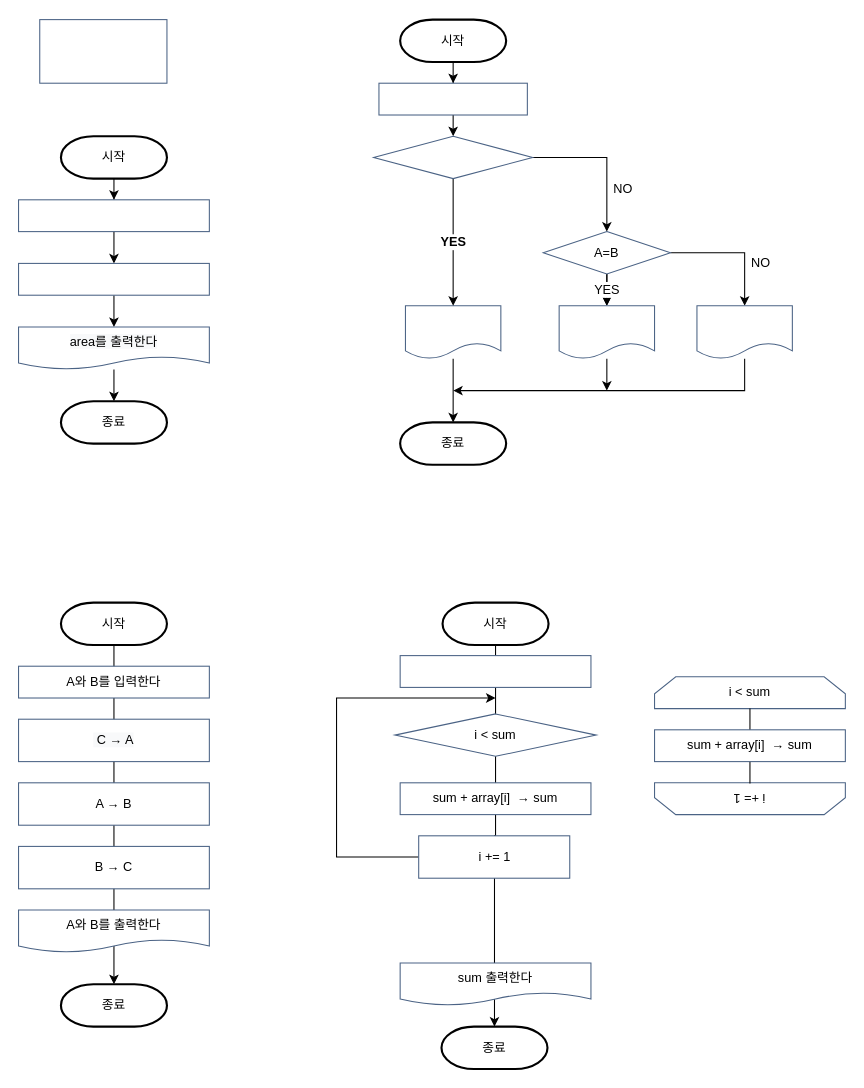
Image size: 864x1088. Some labels were removed from this diagram. The shapes that lost their labels are listed below. From the top down, each one's centre as x and y in pixels, then its label:
At pixel 103 51: "삼각형의 면적 = 밑변의길이 X높이/2".
At pixel 452 98: "A와 B를 입력한다.".
At pixel 453 157: "A>B".
At pixel 113 215: "base와 hight를 입력한다.".
At pixel 113 278: "base * height / 2.0 → area".
At pixel 452 332: "A 출력".
At pixel 606 332: "A와 B는 같다".
At pixel 744 332: "B 출력".
At pixel 495 671: "sum → 0, 0 → i".
